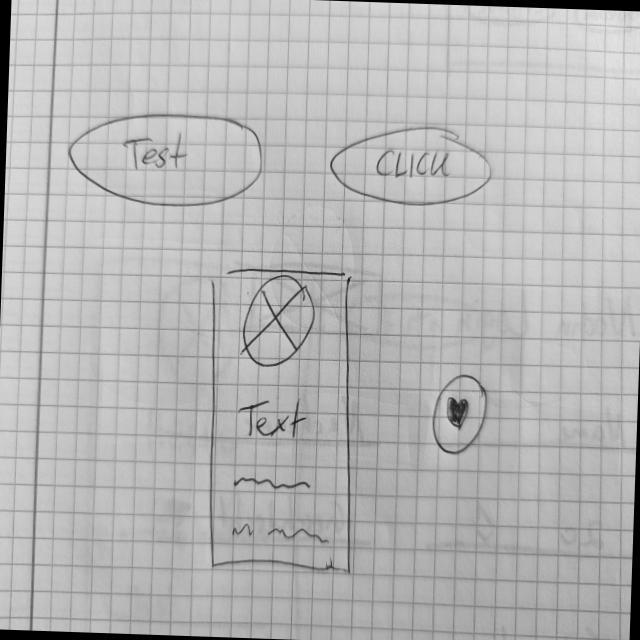button: (62, 107, 268, 212), (328, 120, 494, 210)
container: (197, 262, 365, 576)
icon-button: (428, 372, 490, 458)
image: (240, 273, 316, 371)
label: (234, 396, 310, 442)
text: (229, 517, 331, 549), (229, 470, 316, 496)
